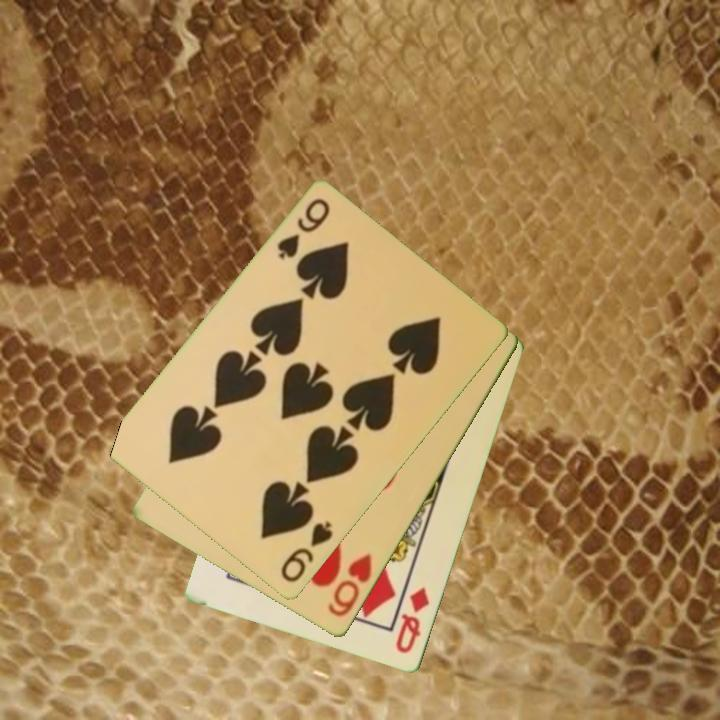6h: (324, 550, 375, 621)
9s: (273, 195, 334, 263), (277, 517, 336, 586)
Qd: (392, 584, 433, 657)
